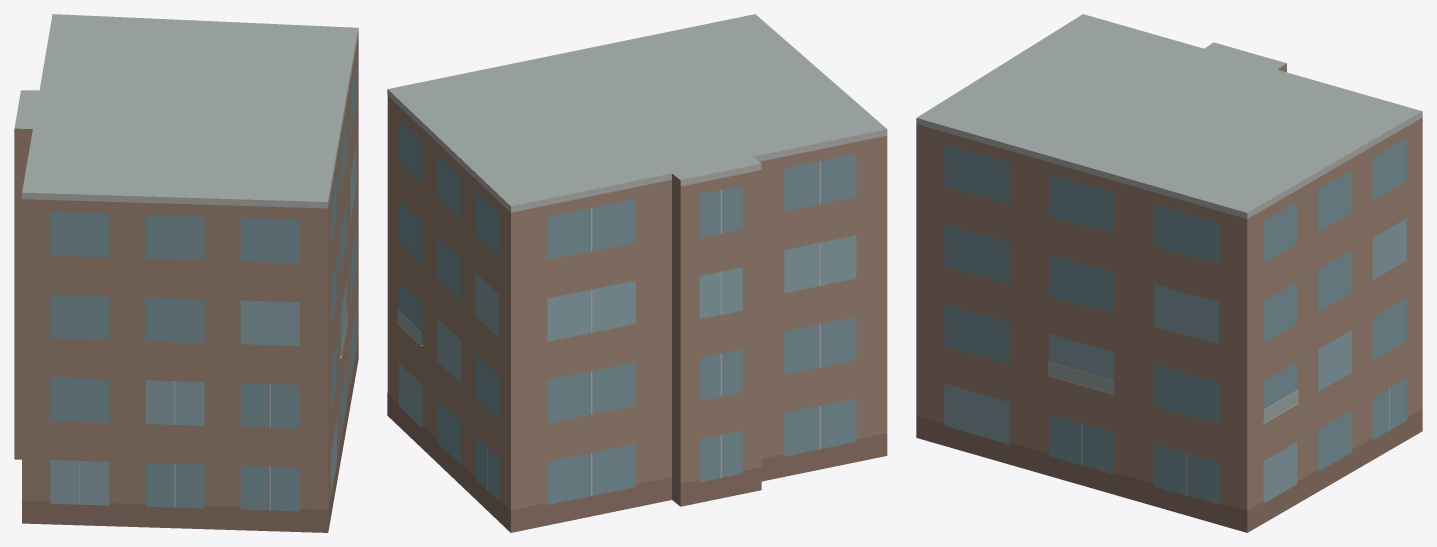
File: survey-upis-32718563.glb
3 renders of one model, left to right at view 1: azimuth 30°, elevation 25°; view 2: azimuth 150°, elevation 25°; view 3: azimuth 270°, elevation 25°, orthographic. The views are drawn at different scales.
Parts seen in each view (by area): view 1: survey-upis-32718563.tmp; view 2: survey-upis-32718563.tmp; view 3: survey-upis-32718563.tmp.
Boxes of the visible parts, x1,y1,x2,y2 form: survey-upis-32718563.tmp: (14, 14, 358, 532); survey-upis-32718563.tmp: (387, 14, 887, 532); survey-upis-32718563.tmp: (916, 14, 1422, 532).
Bounding box in the file's own units: 16.85 × 12.63 × 18.12.
